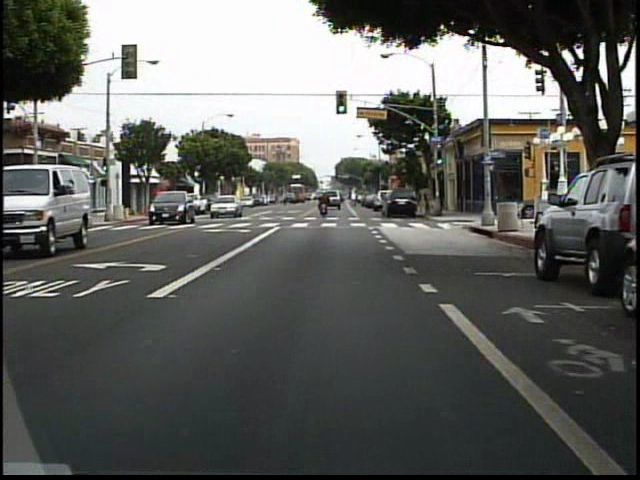person: (63, 192, 84, 221), (318, 190, 331, 219), (74, 191, 85, 222)
